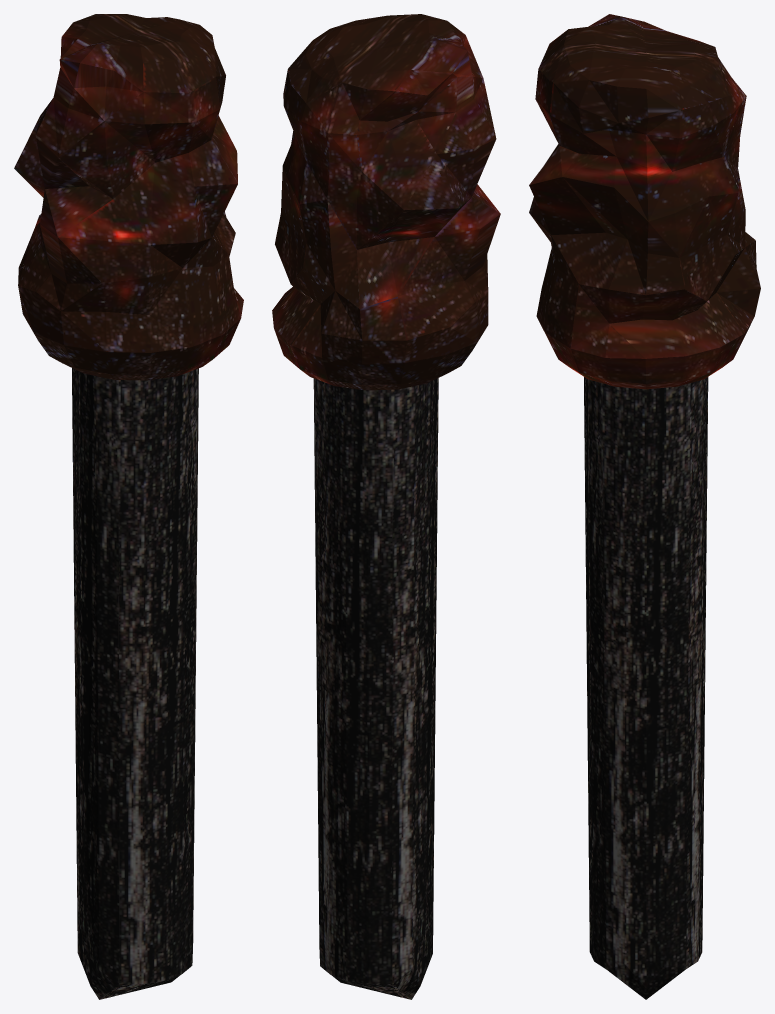
File: torch.obj
3 renders of one model, left to right at view 1: azimuth 30°, elevation 25°; view 2: azimuth 150°, elevation 25°; view 3: azimuth 270°, elevation 25°, orthographic. The views are drawn at different scales.
Bounding box in the file's own units: 0.351 × 1.67 × 0.3709.
Materials: 1 (1 with a texture image).
